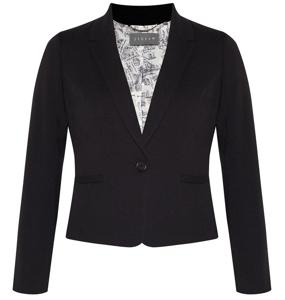F_M_suit jacket: (12, 9, 270, 284)
